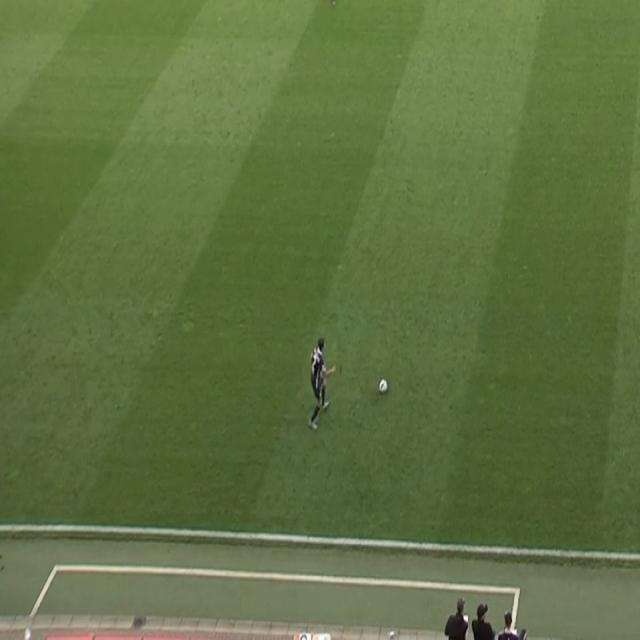ball: (378, 377, 388, 396)
